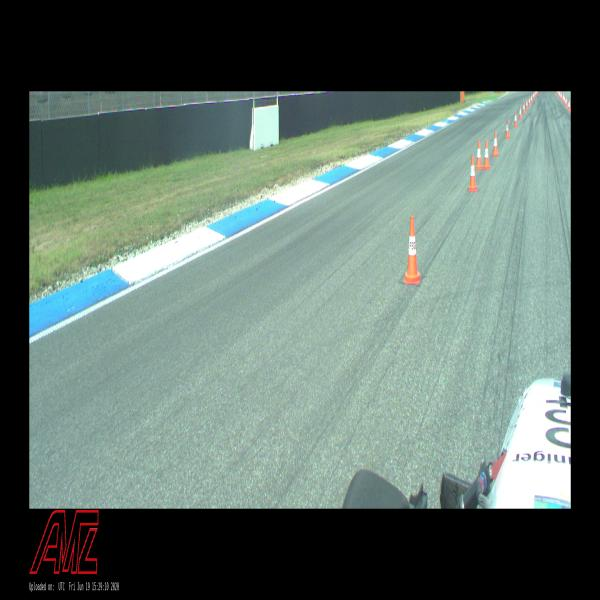orange_cone: (404, 216, 421, 284), (468, 154, 477, 192), (475, 140, 483, 169), (492, 131, 499, 157), (484, 140, 490, 169), (505, 119, 510, 138), (514, 112, 518, 126), (519, 106, 522, 119), (565, 96, 568, 107), (568, 99, 570, 112), (523, 102, 525, 113), (526, 99, 528, 109), (562, 93, 564, 103), (564, 95, 566, 105), (528, 97, 530, 106), (531, 95, 532, 103), (533, 92, 534, 100)
